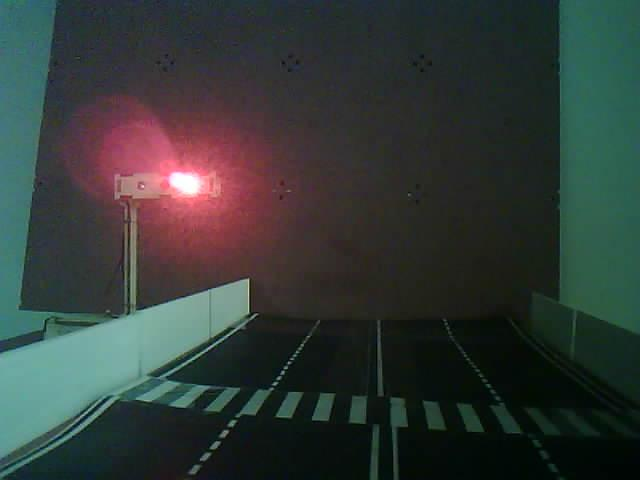crosswalk: (88, 346, 640, 462)
red: (99, 155, 237, 204)
